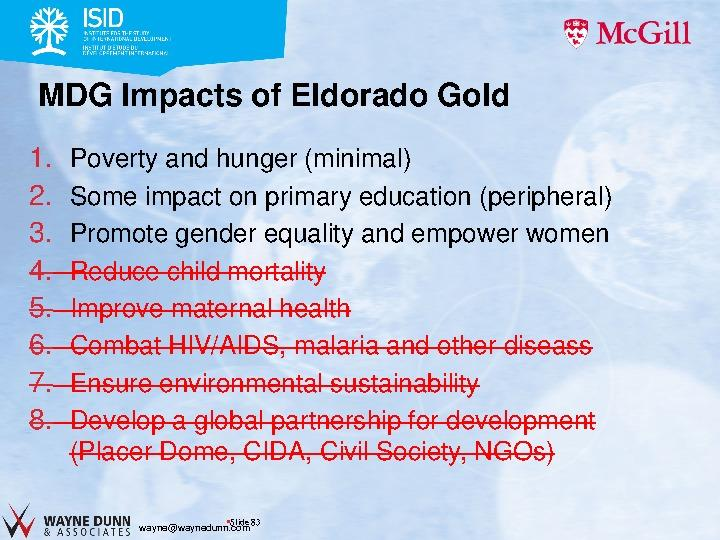paragraph: (23, 139, 680, 478)
subtitle: (35, 71, 515, 127), (37, 493, 306, 540)
title: (76, 2, 713, 76)
